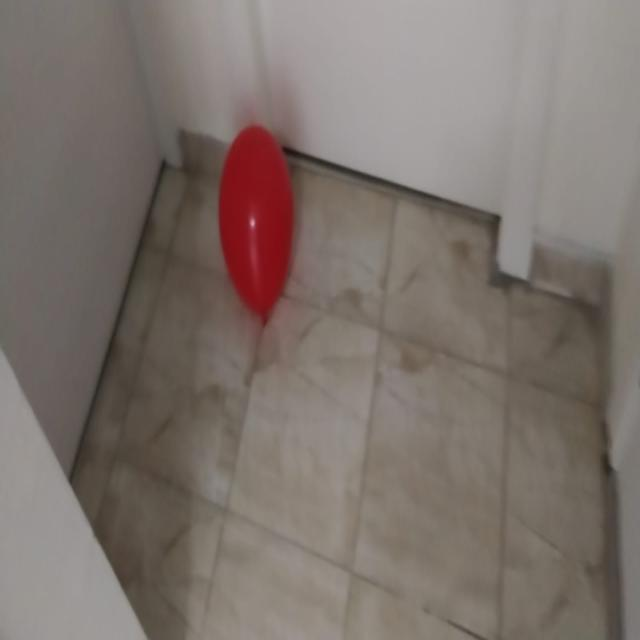balloon: (212, 112, 300, 342)
